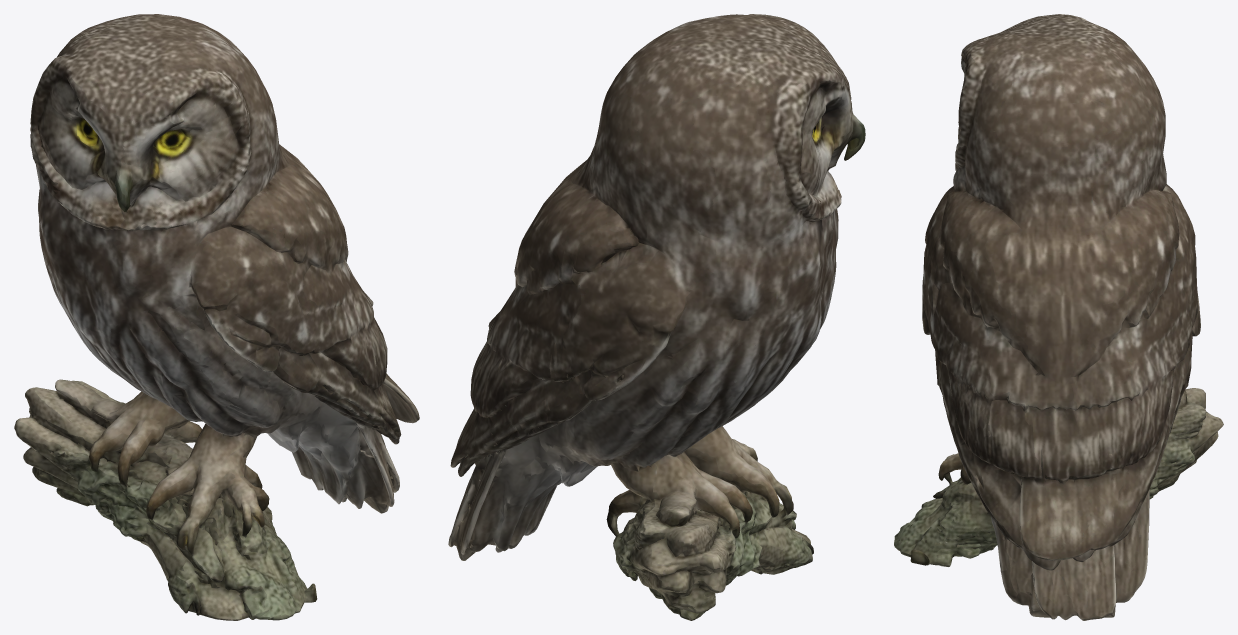
File: boreal-owl-v21-lod.glb
The picture shows the model from 3 angles, left to right: view 1: azimuth 30°, elevation 25°; view 2: azimuth 150°, elevation 25°; view 3: azimuth 270°, elevation 25°; orthographic projection. The views are drawn at different scales.
Parts seen in each view (by area): view 1: geometry_0; view 2: geometry_0; view 3: geometry_0.
Boxes of the visible parts, left/top/right/bottom form: geometry_0: left=14, top=14, right=419, bottom=620; geometry_0: left=448, top=14, right=865, bottom=620; geometry_0: left=894, top=14, right=1223, bottom=620.
Bounding box in the file's own units: 0.2891 × 0.42 × 0.2564.
Materials: 1 (1 with a texture image).
